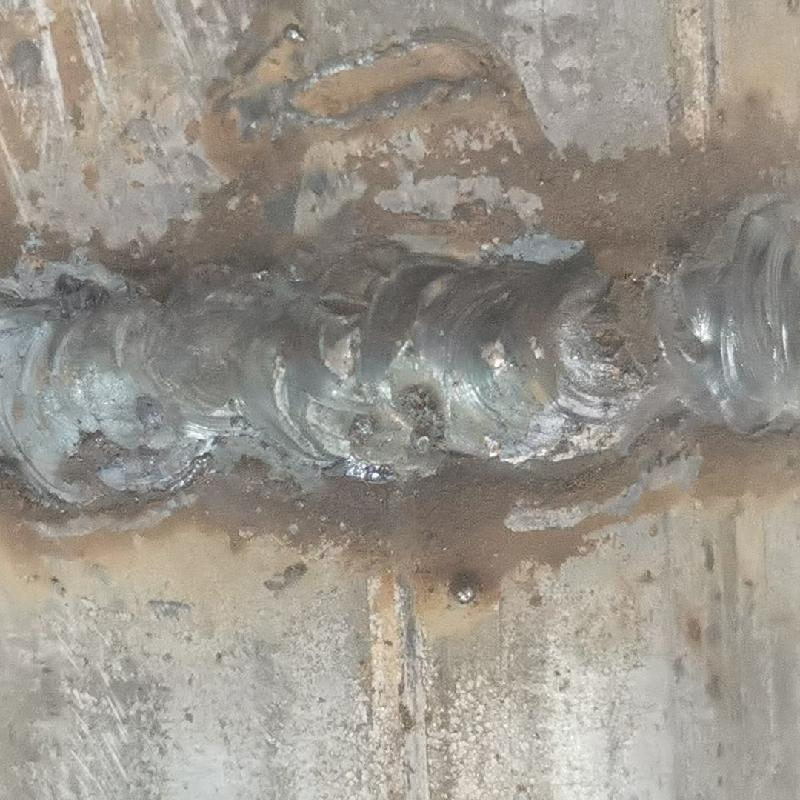good: (3, 206, 799, 491)
